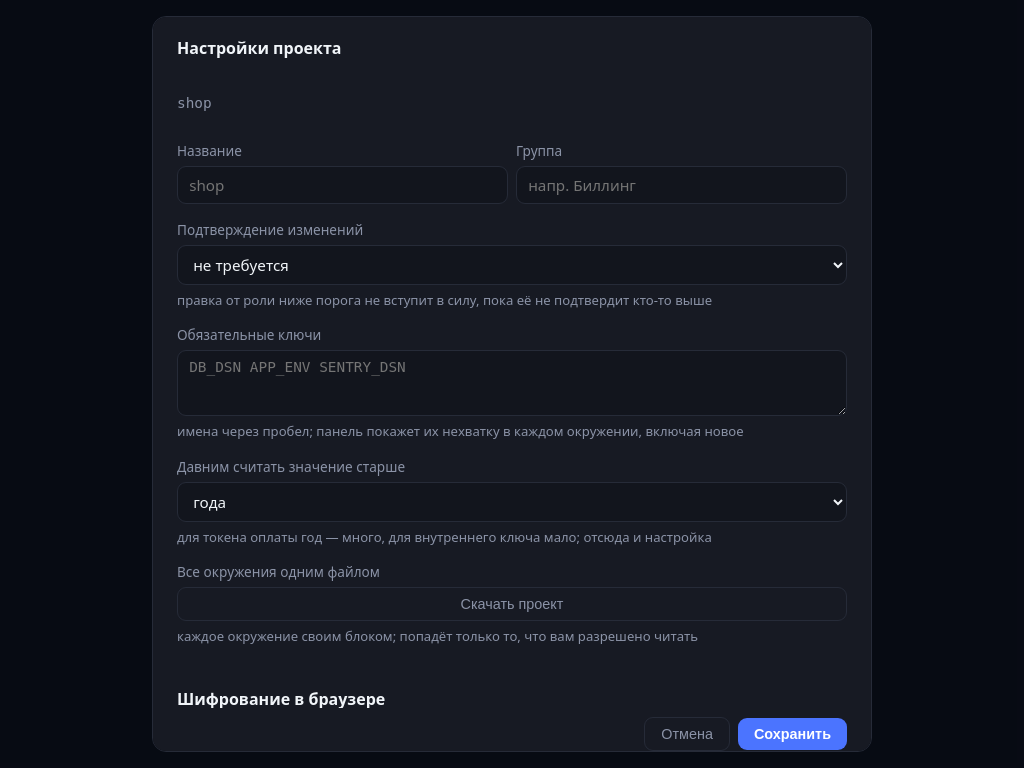
Test: окно правки значения › настройки проекта: Escape с измененным спрашивает
Type "DB_URL" into the text box with placeholder "DB_DSN APP_ENV SENTRY_DSN" at {"x": 512, "y": 383}, box left=177, top=350, right=847, bottom=416
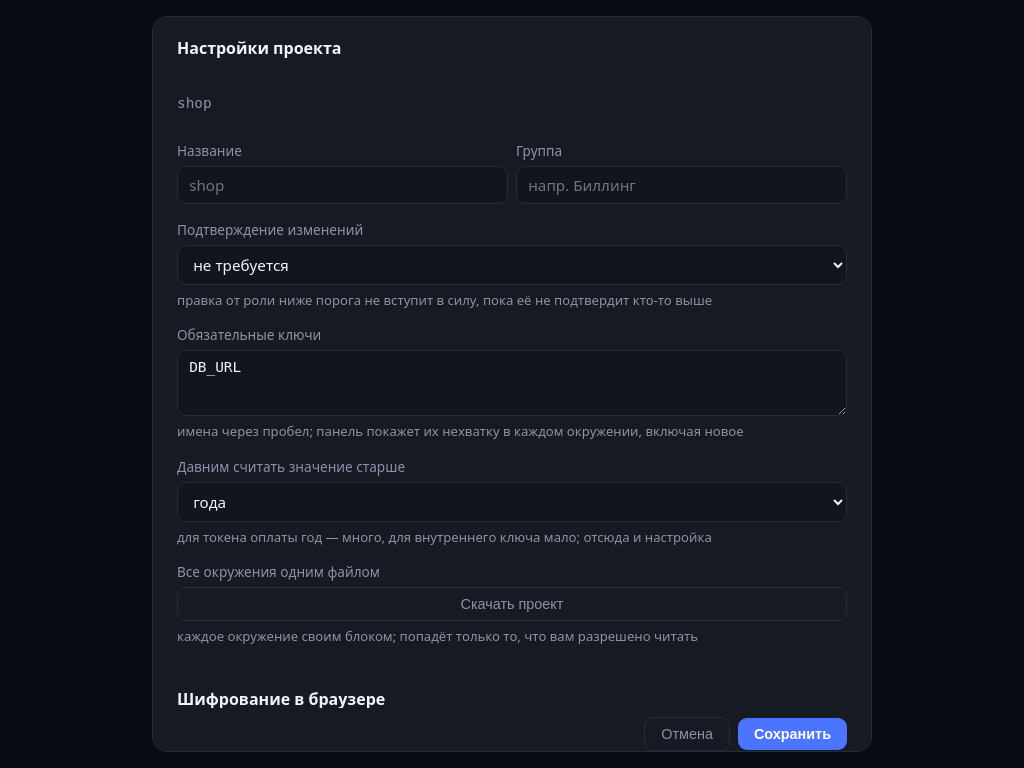
Press Escape
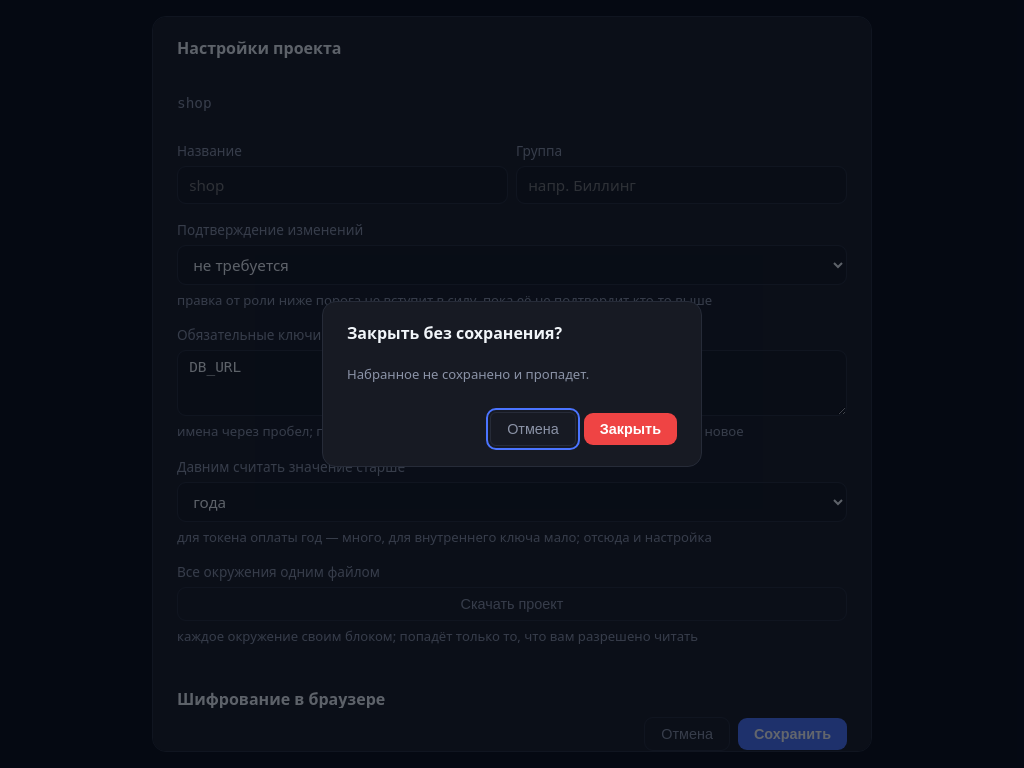
Check: the heading "Закрыть без сохранения?" is shown, box left=347, top=316, right=677, bottom=349
